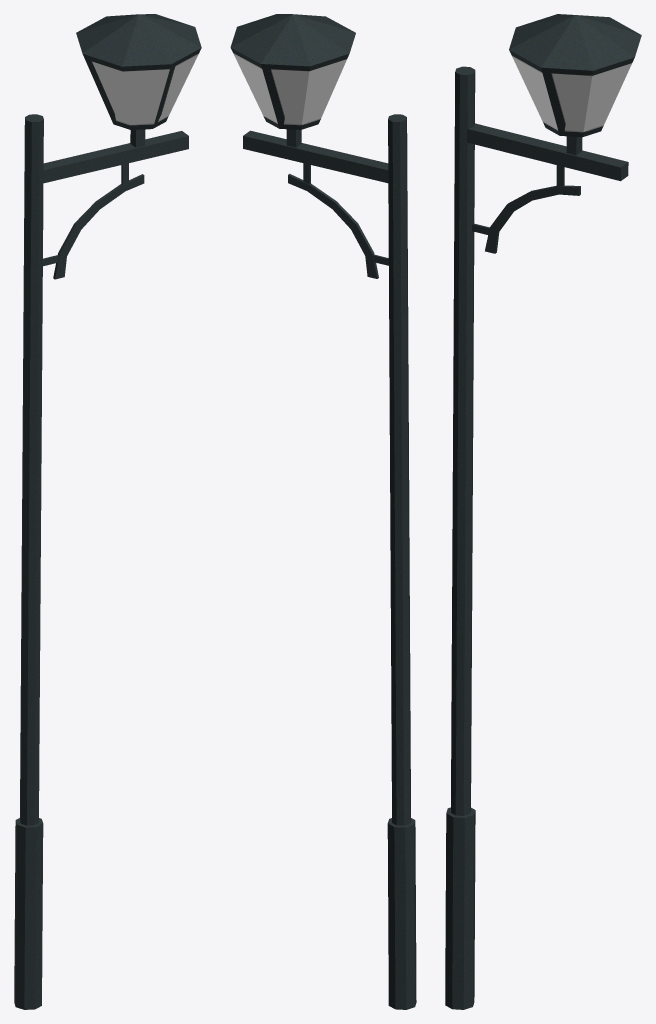
3 views of the same model, side by side, from view 1: azimuth 30°, elevation 25°; view 2: azimuth 150°, elevation 25°; view 3: azimuth 330°, elevation 25° (orthographic). The views are drawn at different scales.
Parts seen in each view (by area): view 1: glbxz.com-stlbd0006.1; view 2: glbxz.com-stlbd0006.1; view 3: glbxz.com-stlbd0006.1.
Boxes of the visible parts, x1,y1,x2,y2 form: glbxz.com-stlbd0006.1: [14, 14, 201, 1009]; glbxz.com-stlbd0006.1: [230, 14, 416, 1009]; glbxz.com-stlbd0006.1: [445, 14, 641, 1009].
Size of the model in its own units: 0.7194 by 3.7 by 0.4535.
2 materials, 2 textured.
